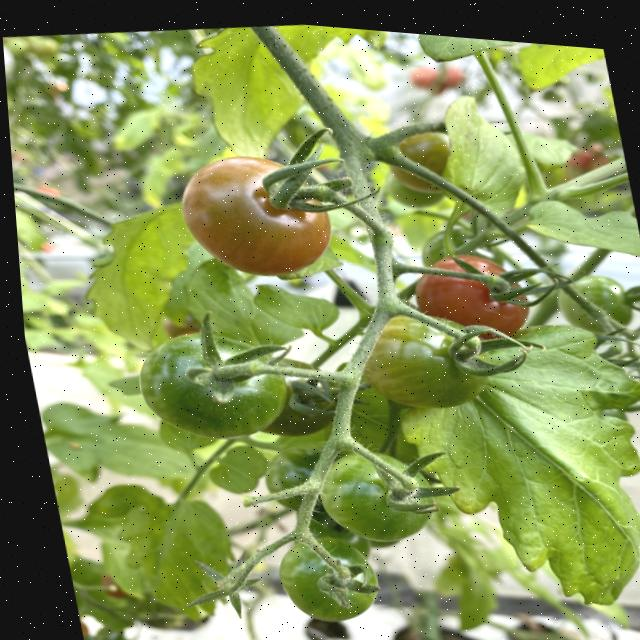ripe0: (131, 328, 296, 442), (358, 311, 497, 412), (311, 448, 443, 544), (271, 535, 387, 623)
ripe1: (173, 153, 339, 277)
ripe2: (430, 252, 531, 320)
